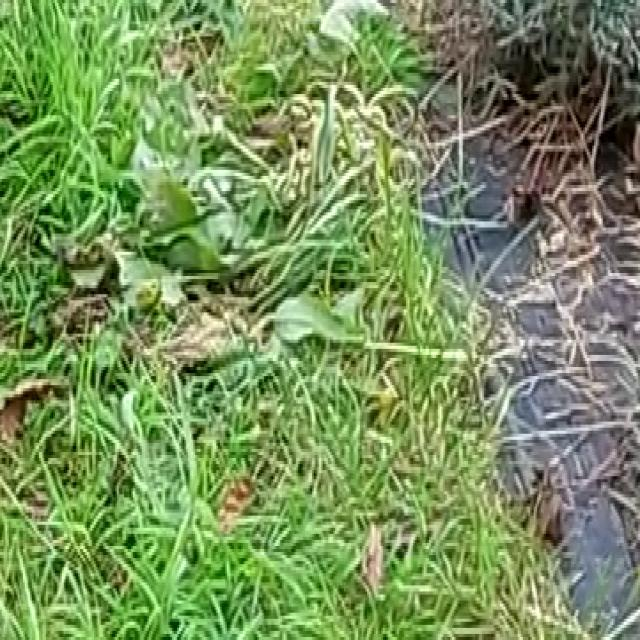organic waste: (106, 91, 321, 346)
